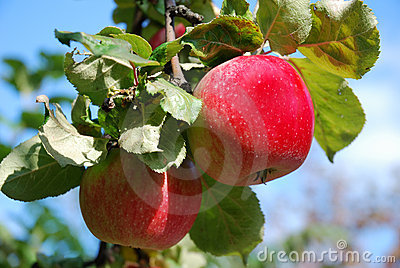apple: (187, 54, 315, 188)
obscured(1)_apple: (81, 141, 202, 248)
